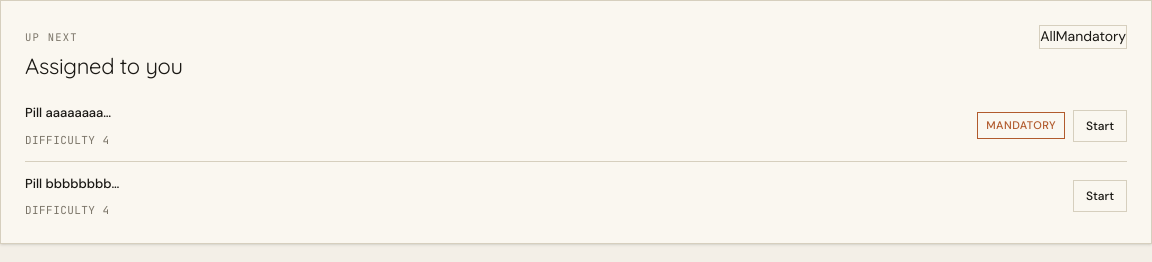
Test: AssignmentsCard › the Mandatory tab filters to mandatory assignments
The image size is (1152, 262).
Expected: the number of elements with test id "assignment-row" is 2, [25,103,1127,162]; [25,174,1127,219]
Click the button with test id "assignments-tab-mandatory": (1091, 37) [1056,26,1126,48]
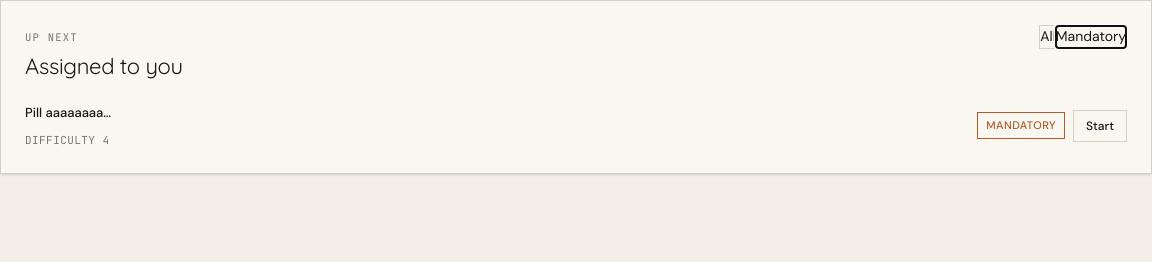
Expected: the text "Mandatory" is shown, [977,112,1065,139]
Expected: the number of elements with test id "assignment-row" is 1, [25,103,1127,149]
